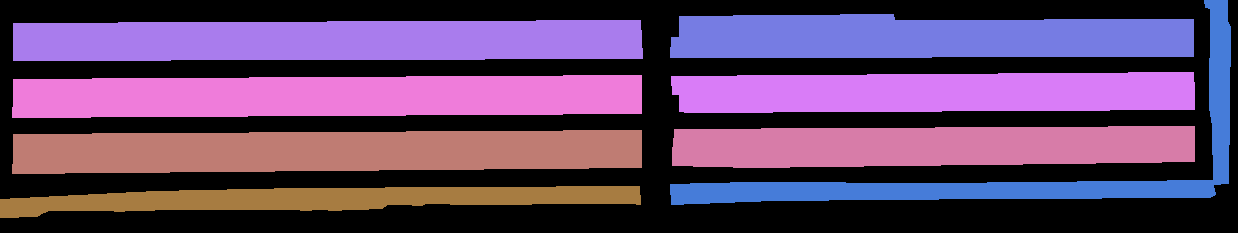parkingspot: (0, 186, 640, 217), (12, 147, 641, 173), (13, 130, 641, 155), (12, 93, 641, 117), (13, 75, 641, 99), (13, 38, 642, 60), (13, 20, 641, 42), (679, 14, 1193, 40), (670, 180, 1215, 204), (672, 144, 1194, 167), (671, 72, 1194, 94), (679, 90, 1194, 112), (673, 126, 1194, 147), (670, 37, 1193, 57), (1204, 0, 1230, 184)
